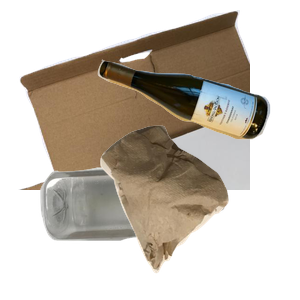cardboard: (16, 10, 256, 190)
glass: (95, 57, 300, 189)
plastic: (38, 165, 255, 300)
trash: (98, 123, 300, 300)
